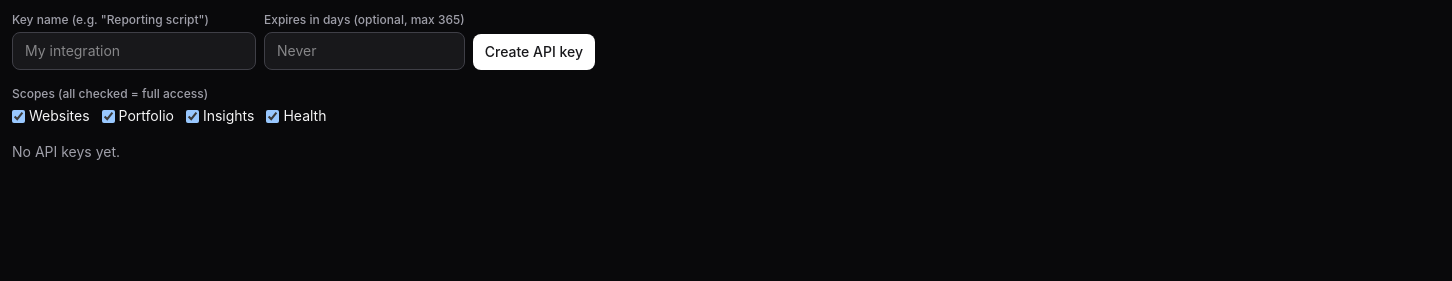
Test: ApiKeyManager › creates a key and shows the secret once
Step 1. Type "  New key  " into the field labelled "Key name (e.g. \"Reporting script\")" → (134, 51), box [12,32,256,70]
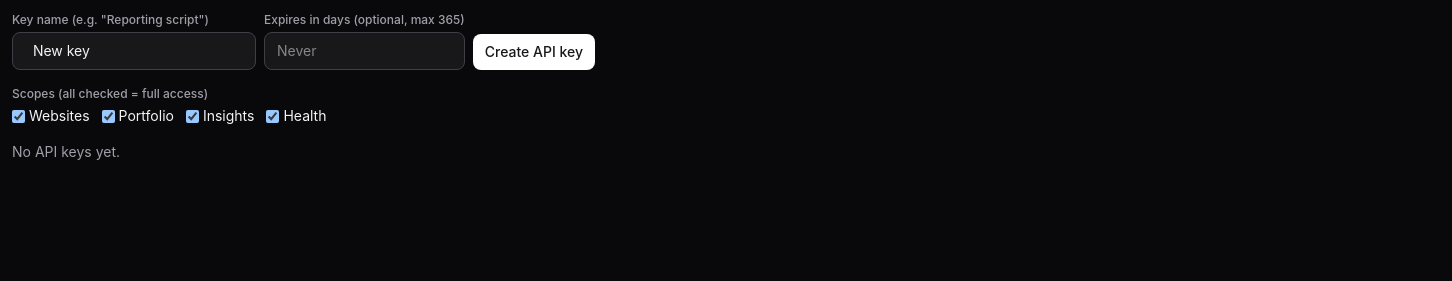
Step 2. Click the button "Create API key" → (534, 52), box [473,34,595,70]
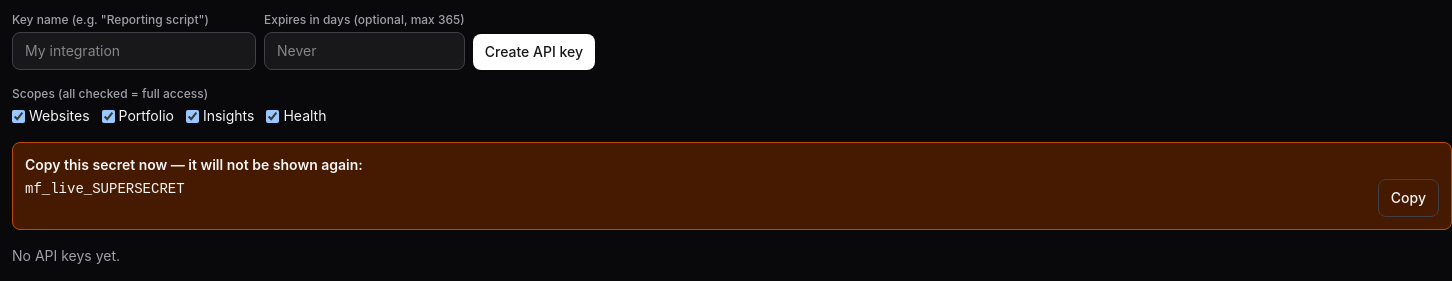
Now the text "mf_live_SUPERSECRET" is shown, box [25,181,185,197]
Now the text "Copy this secret now — it will not be shown again:" is shown, box [25,156,363,173]
Now the field labelled "Key name (e.g. \"Reporting script\")" is empty, box [12,32,256,70]
